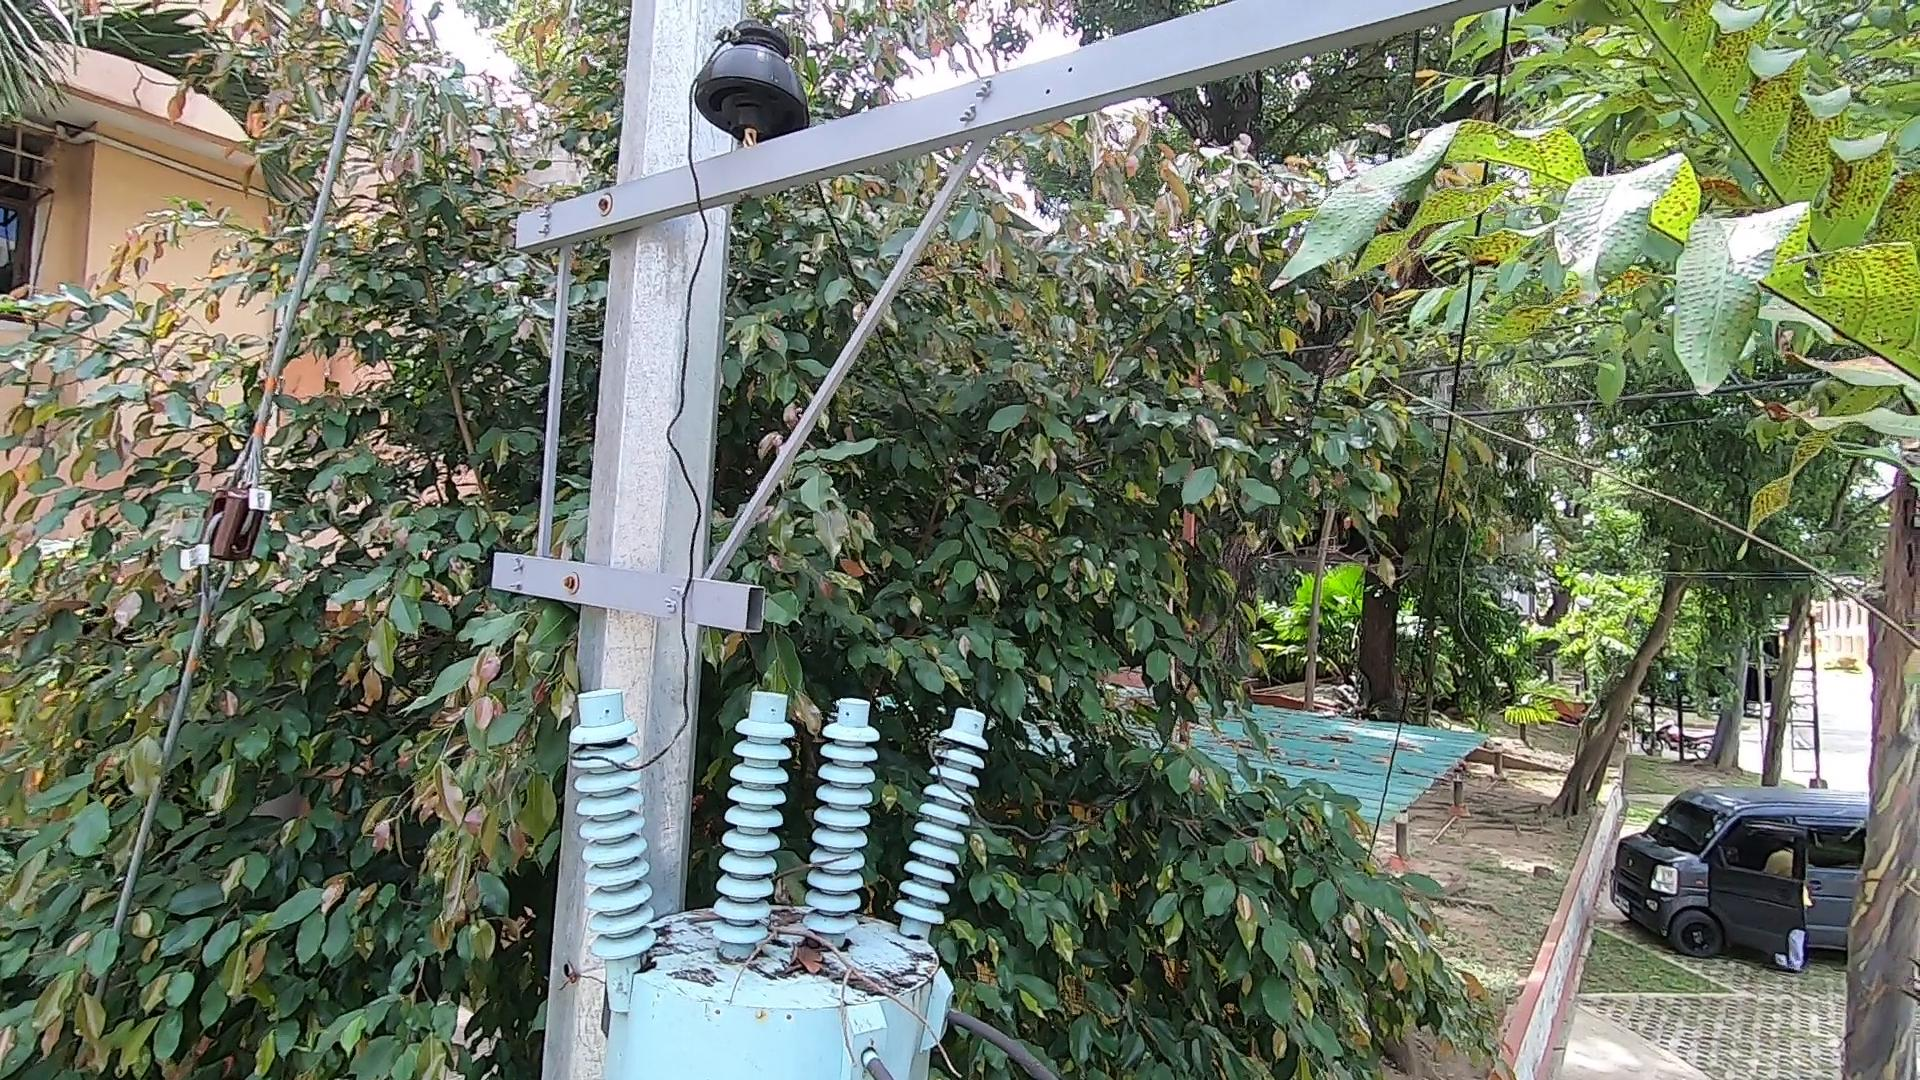leaf: (767, 923, 847, 989)
tree branch: (704, 860, 969, 1080)
